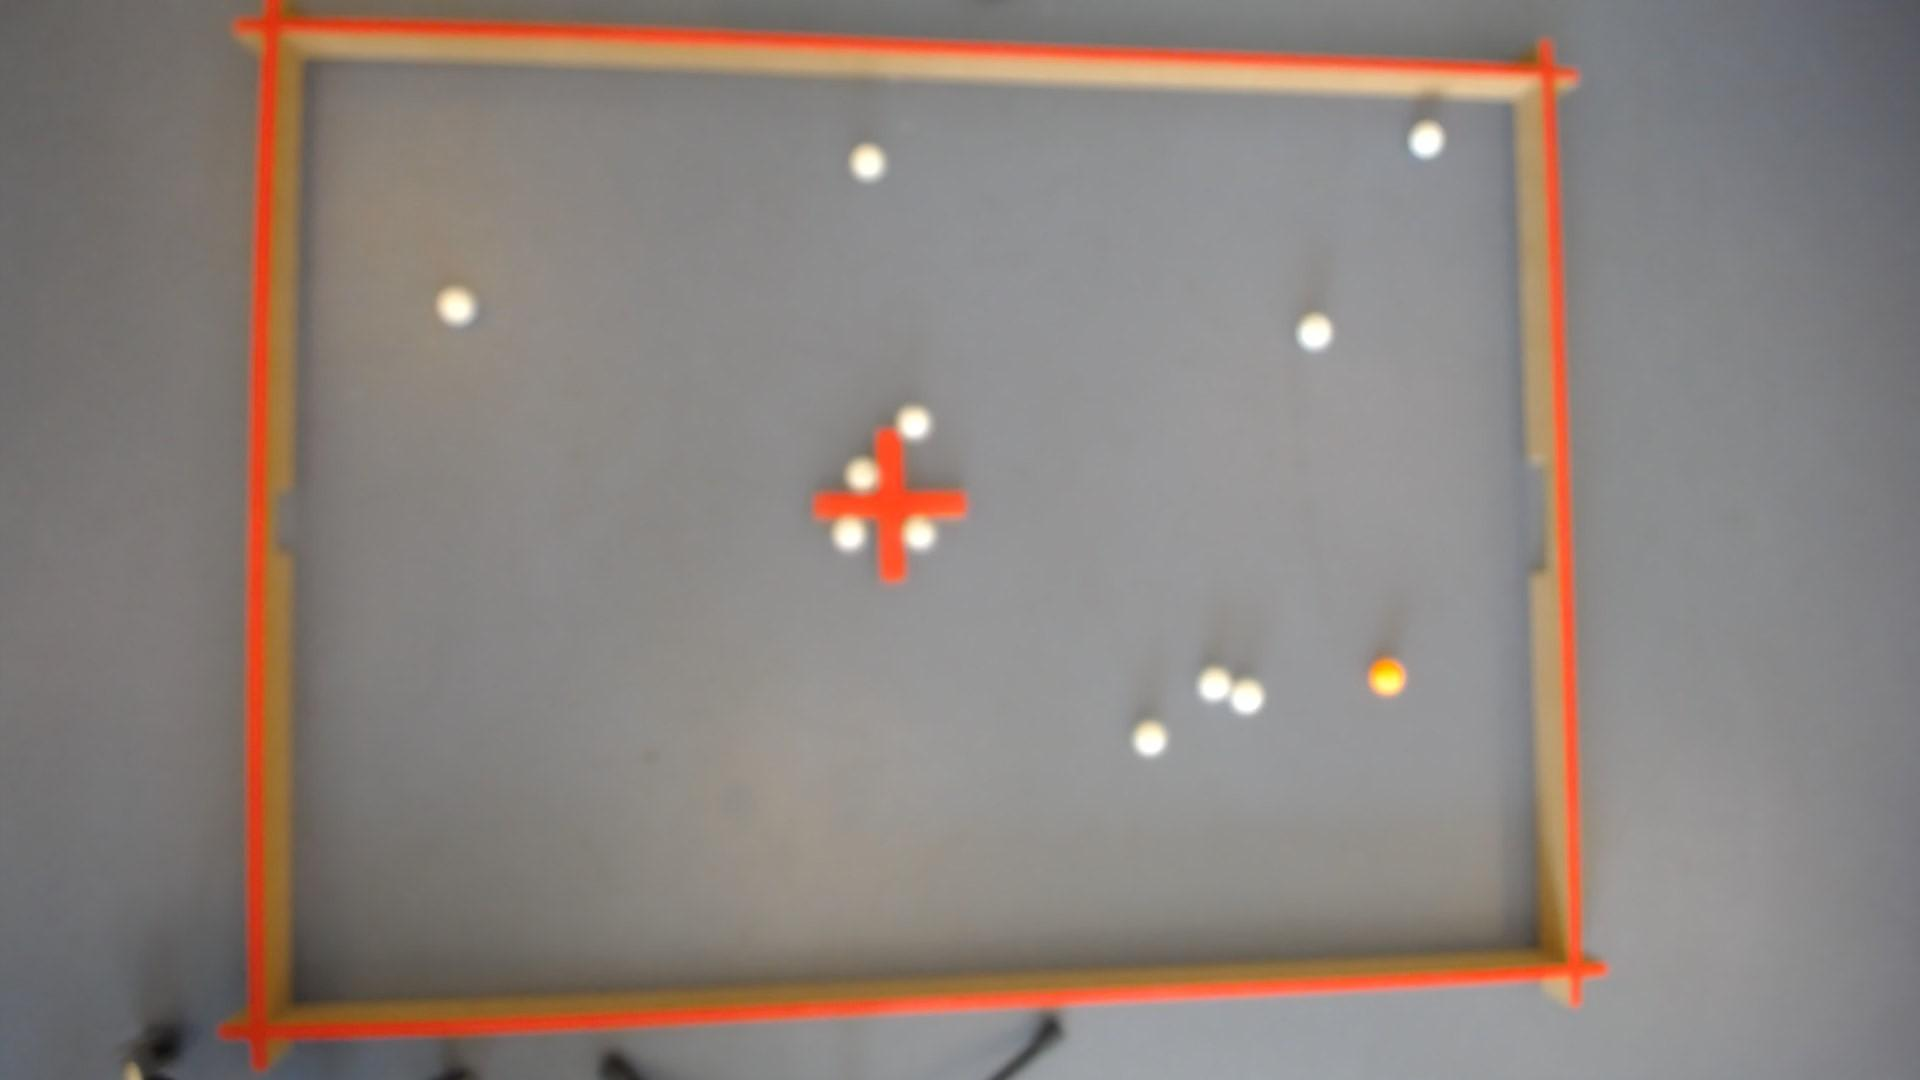orange: (1371, 655, 1408, 696)
white: (434, 284, 477, 326), (1408, 115, 1448, 157), (848, 140, 887, 181), (1298, 309, 1336, 351), (1131, 719, 1170, 757), (895, 402, 934, 439), (1230, 676, 1267, 715), (1197, 665, 1234, 702), (844, 455, 880, 491), (832, 516, 866, 551), (903, 516, 938, 550)
